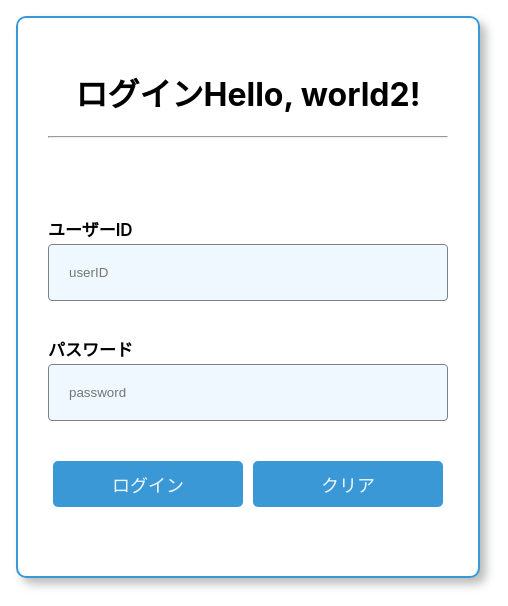
it: Signin test › ユーザーID:ひらがな入力
Type "あいうえお" into the field labelled "ユーザーID" at (248, 272), box [48,244,448,301]
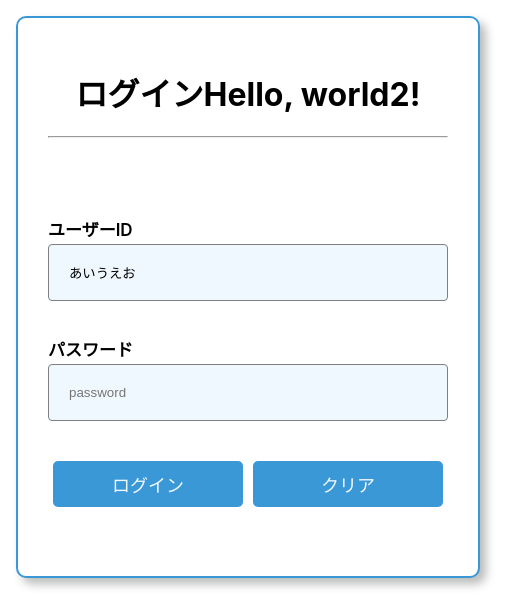
Click the button "ログイン" at (148, 484), box [53,461,243,507]
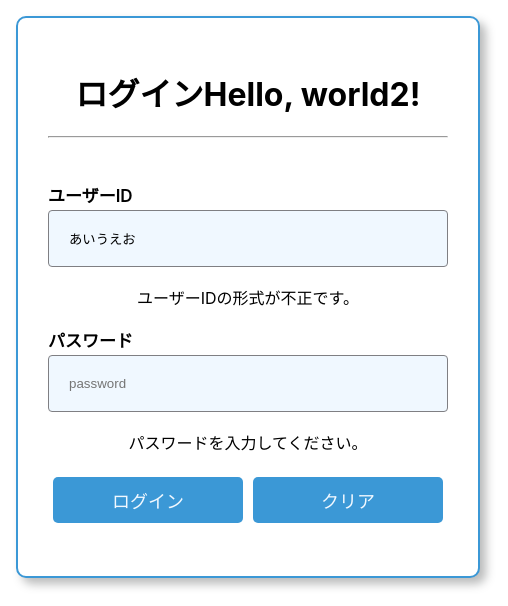
Expected: the text "ユーザーIDの形式が不正です。" is shown, [137,285,359,309]
